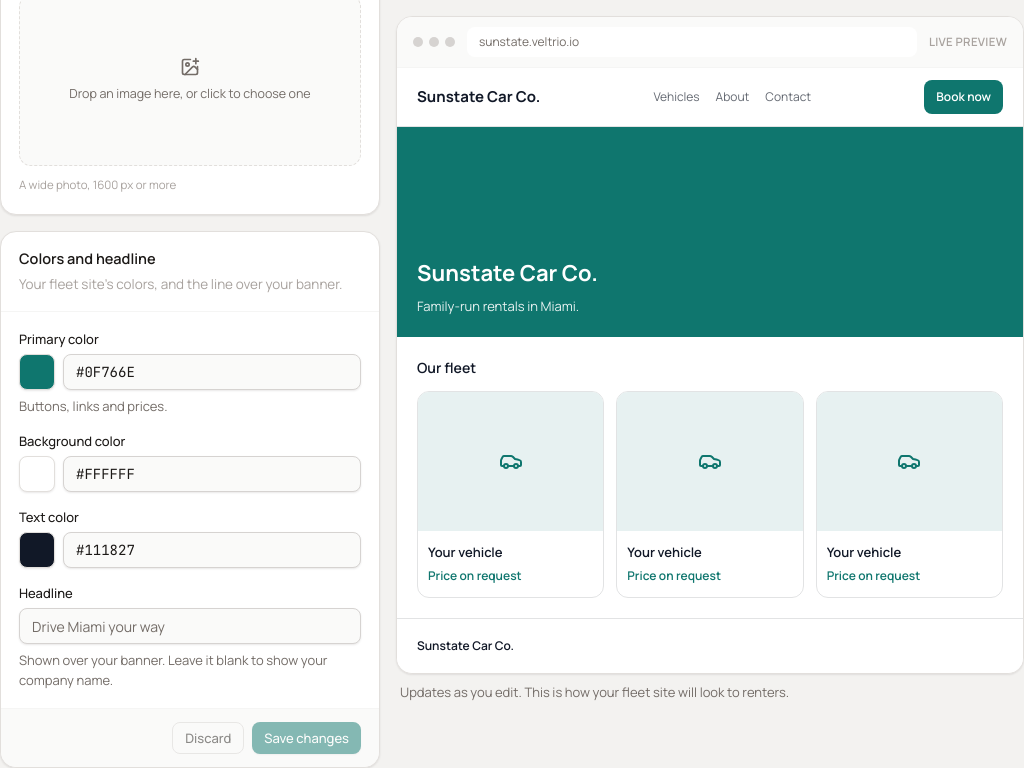
Test: BrandSettings › keeps what is typed while a save is in flight
(page scrolled)
Type "Drive Miami" into the field labelled "Headline" at (190, 626), box [19,608,361,644]
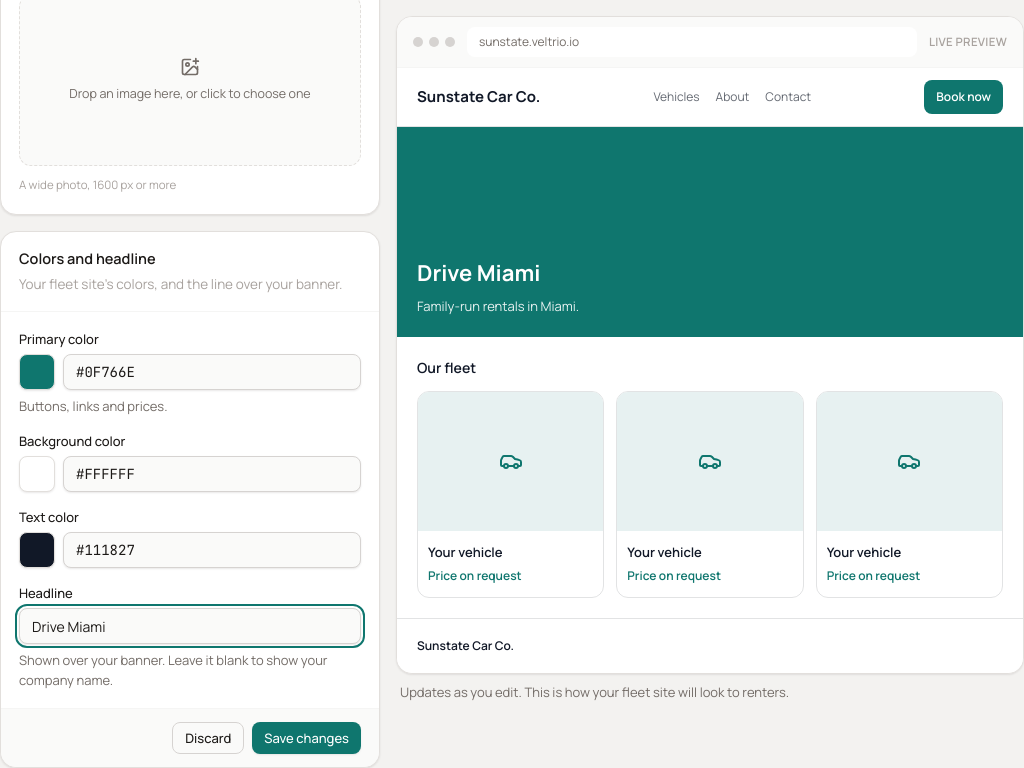
Click the button "Save changes" at (307, 738), box [252,722,361,754]
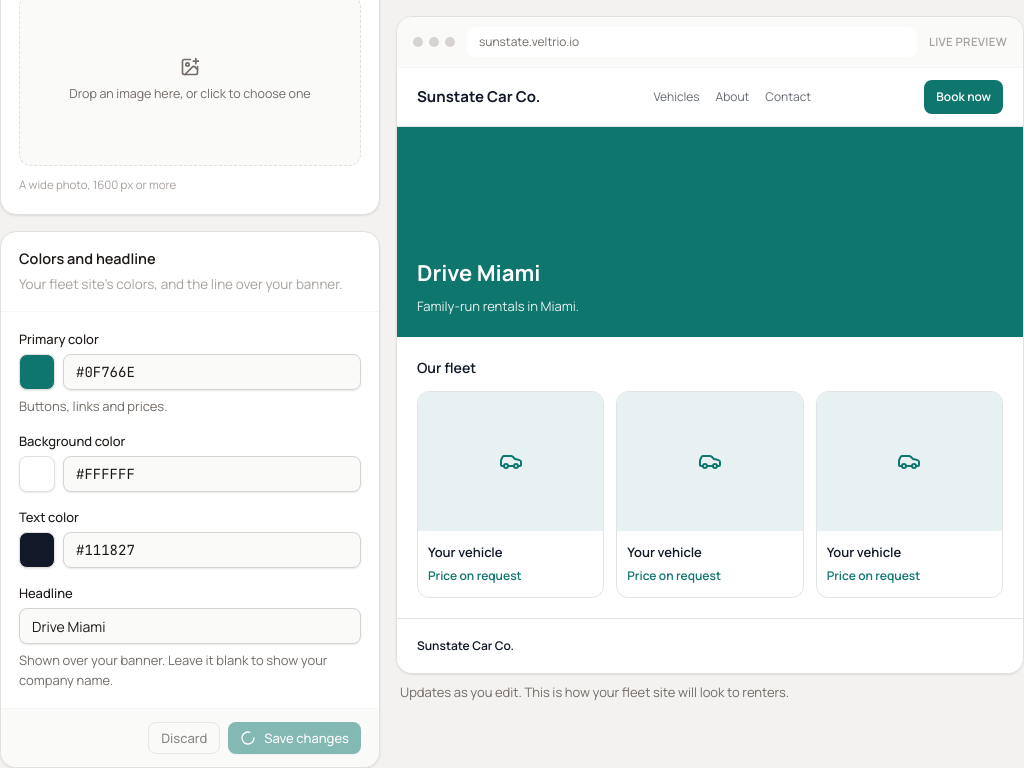
Type " your way" into the field labelled "Headline" at (190, 626), box [19,608,361,644]
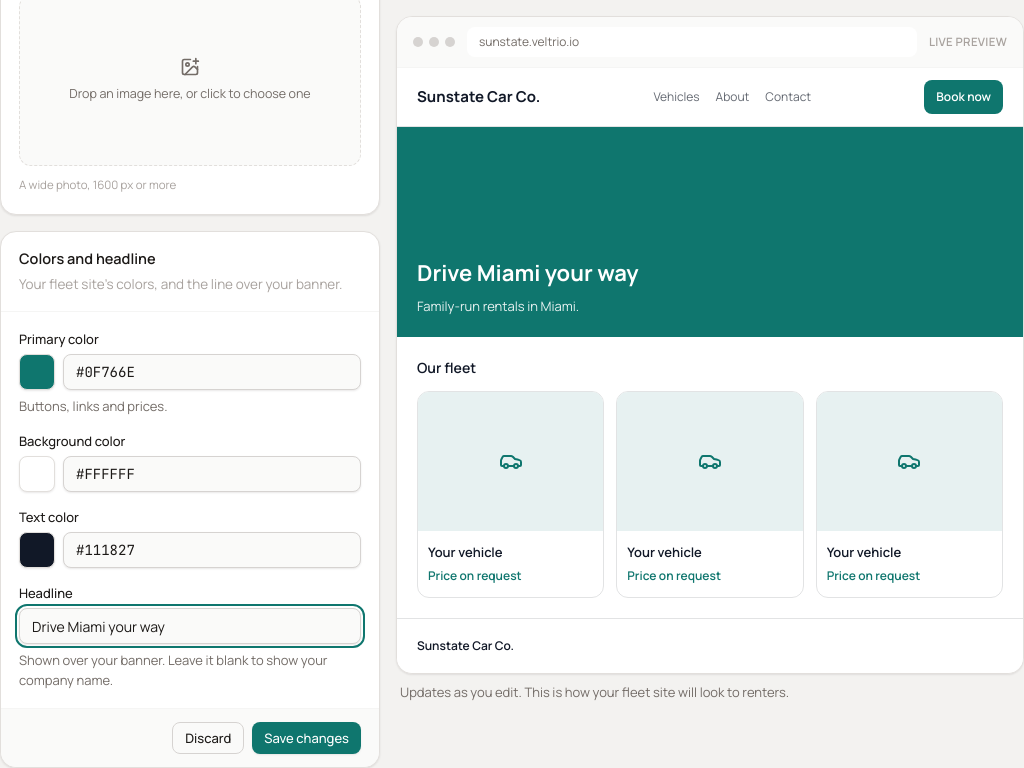
Check: the button "Save changes" is enabled, box [252,722,361,754]
Check: the field labelled "Headline" holds "Drive Miami your way", box [19,608,361,644]
